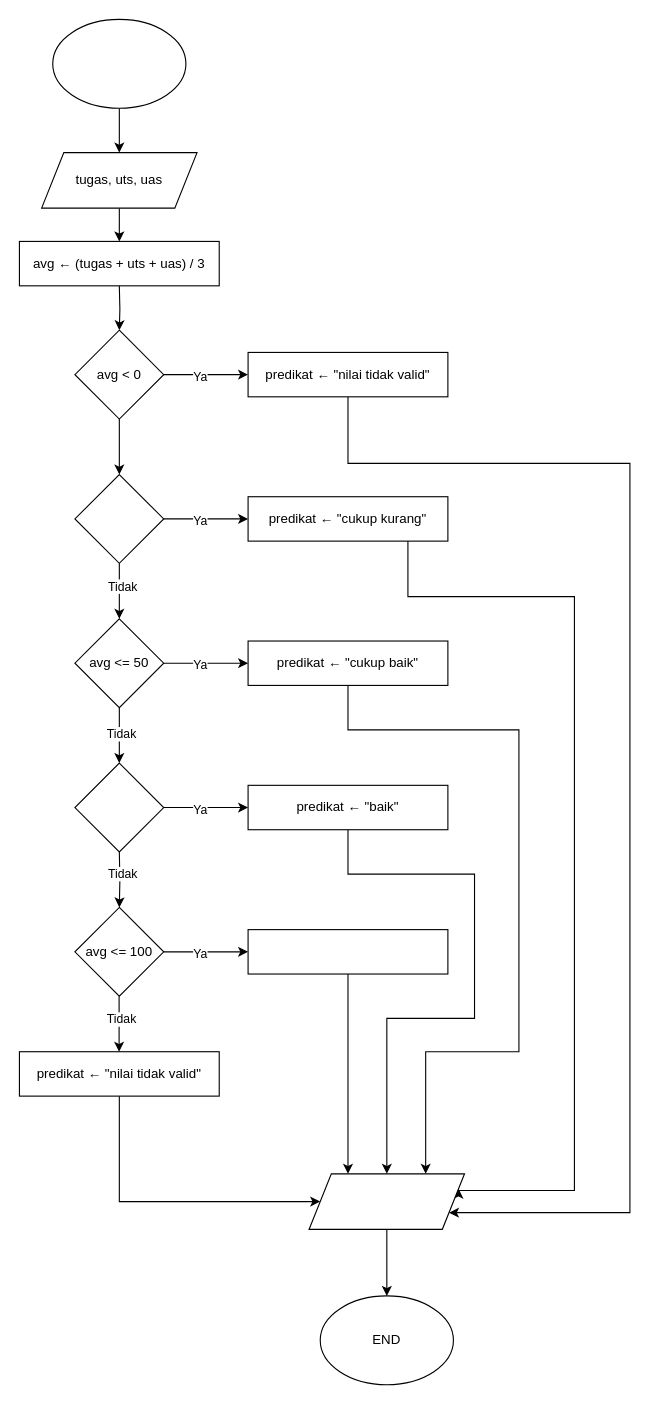
Some shapes in this 658 by 1404 pixel diagram are drawn without their labels. The shapes that lost their labels are listed below. From the top down, each one's centre as x and y in pixels, then its label:
(x=119, y=63): START
(x=119, y=518): avg <= 25
(x=119, y=807): avg <= 75
(x=347, y=951): predikat ← "sangat baik"
(x=386, y=1201): avg, predikat
